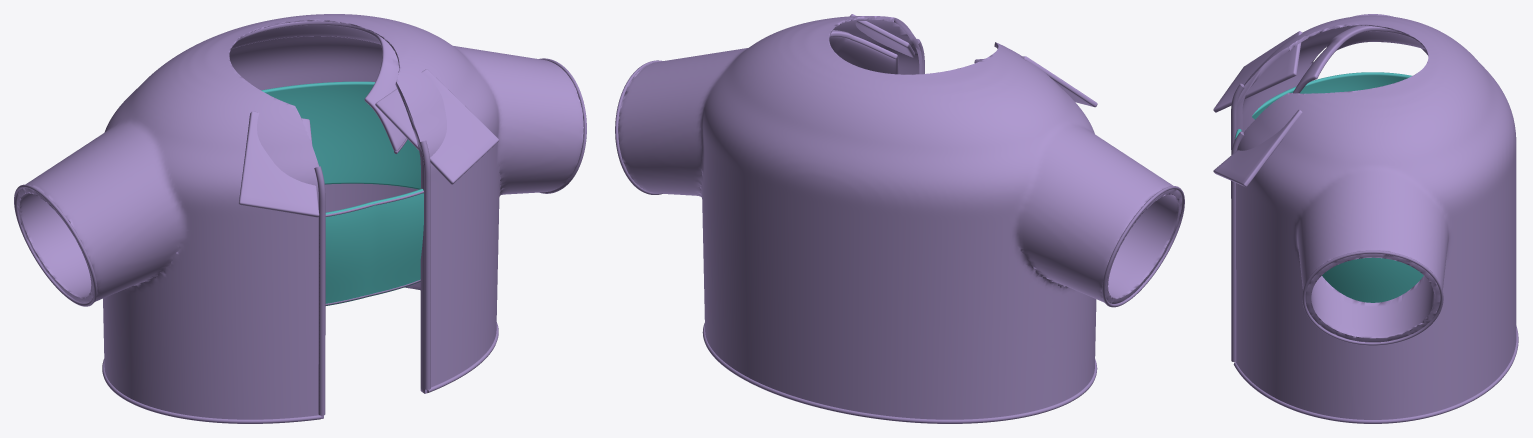
File: Feminine-open-top.glb
3 renders of one model, left to right at view 1: azimuth 30°, elevation 25°; view 2: azimuth 150°, elevation 25°; view 3: azimuth 270°, elevation 25°, orthographic. The views are drawn at different scales.
Parts seen in each view (by area): view 1: Clothing / open, Clothing / Bandeau underlayer, Open shirt / front collar leaf 1, Open shirt / front collar leaf -1, Open shirt / folded collar, Open shirt / placket export, Open shirt / placket.001 export, Shirt / hem export, Sleeve / open cuff -1 export, Sleeve / open cuff 1 export; view 2: Clothing / open, Shirt / hem export, Open shirt / folded collar, Sleeve / open cuff -1 export, Open shirt / front collar leaf 1, Open shirt / front collar leaf -1, Sleeve / open cuff 1 export; view 3: Clothing / open, Clothing / Bandeau underlayer, Open shirt / front collar leaf -1, Open shirt / folded collar, Open shirt / front collar leaf 1, Shirt / hem export, Sleeve / open cuff 1 export, Open shirt / placket.001 export, Open shirt / placket export.
Part boxes in pixels (box(x1,y1,x2,y2)): Clothing / open: box(17, 14, 583, 419); Clothing / Bandeau underlayer: box(261, 81, 423, 305); Open shirt / front collar leaf 1: box(375, 69, 498, 184); Open shirt / front collar leaf -1: box(238, 111, 319, 217); Open shirt / folded collar: box(231, 21, 406, 151); Open shirt / placket export: box(314, 166, 325, 415); Open shirt / placket.001 export: box(419, 140, 430, 389); Shirt / hem export: box(102, 322, 498, 423); Sleeve / open cuff -1 export: box(14, 184, 97, 306); Sleeve / open cuff 1 export: box(539, 58, 586, 193); Clothing / open: box(618, 16, 1181, 419); Shirt / hem export: box(702, 323, 1097, 423); Open shirt / folded collar: box(829, 30, 899, 74); Sleeve / open cuff -1 export: box(1102, 186, 1184, 307); Open shirt / front collar leaf 1: box(850, 14, 914, 57); Open shirt / front collar leaf -1: box(974, 56, 1097, 107); Sleeve / open cuff 1 export: box(615, 60, 662, 194); Clothing / open: box(1235, 15, 1516, 419); Clothing / Bandeau underlayer: box(1235, 72, 1423, 302); Open shirt / front collar leaf -1: box(1213, 31, 1302, 112); Open shirt / folded collar: box(1293, 25, 1424, 93); Open shirt / front collar leaf 1: box(1213, 109, 1302, 186); Shirt / hem export: box(1233, 326, 1518, 423); Sleeve / open cuff 1 export: box(1302, 250, 1443, 345); Open shirt / placket.001 export: box(1231, 131, 1243, 362); Open shirt / placket export: box(1231, 83, 1244, 152).
Bounding box in the file's own units: 1.04 × 0.5798 × 0.5614.
